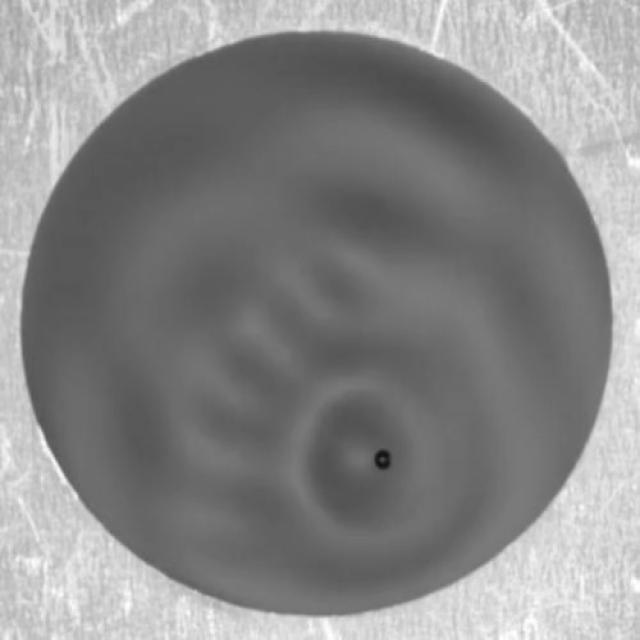droplet: (376, 448, 394, 470)
